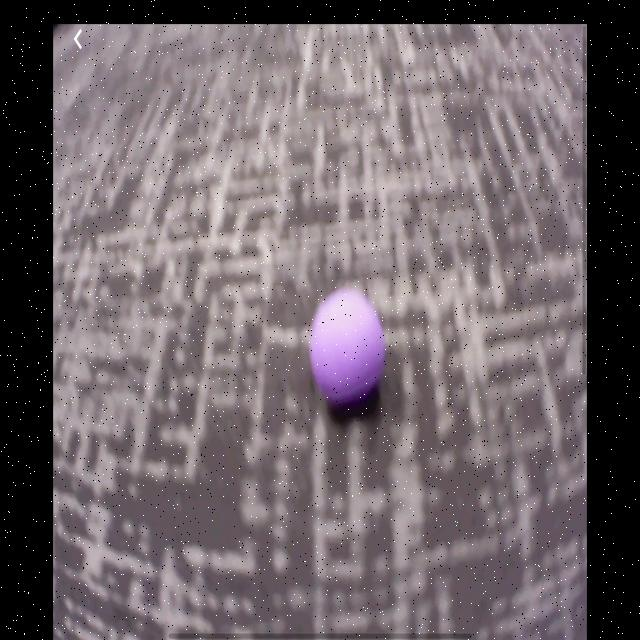ball: (308, 289, 387, 409)
